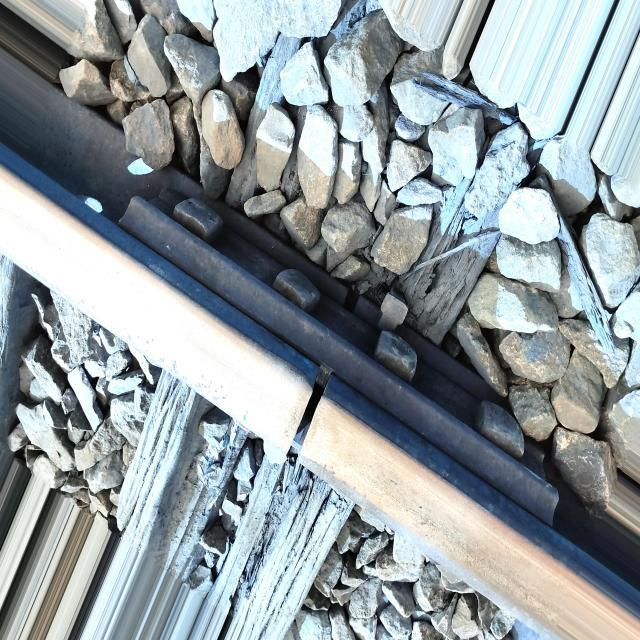Good Joint: (89, 143, 573, 544)
